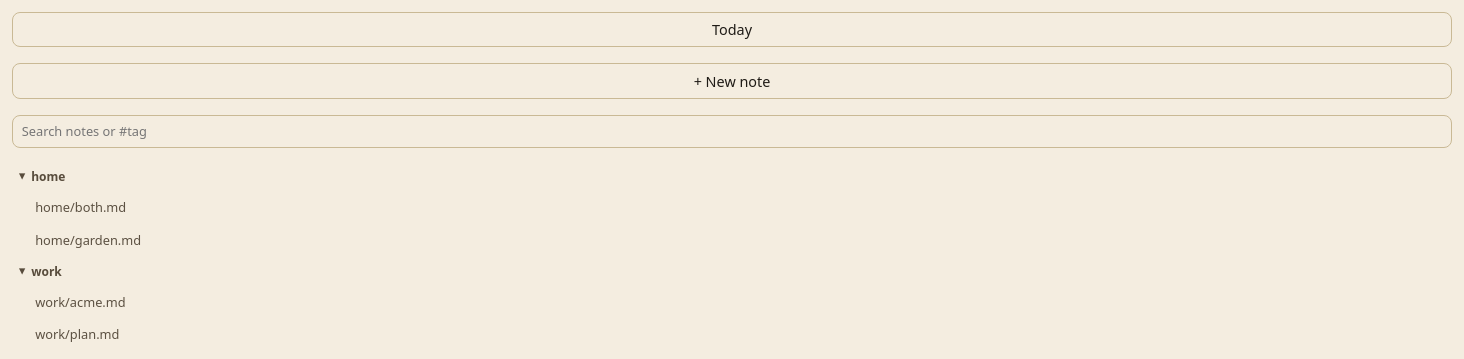
NoteBrowser tag search › picks with the arrow keys
Type "#wo" into the dropdown at (732, 131), box [19,120,1445,142]
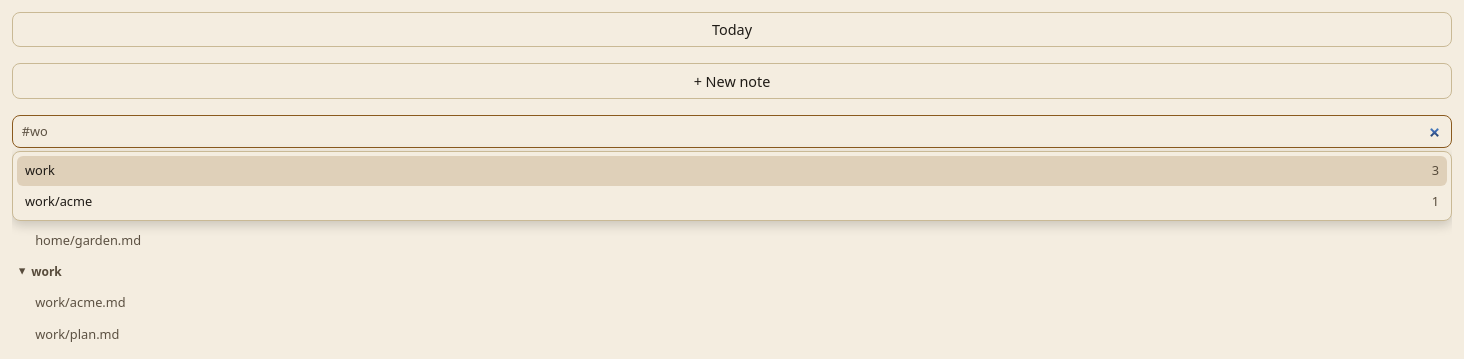
Press Arrowdown Enter
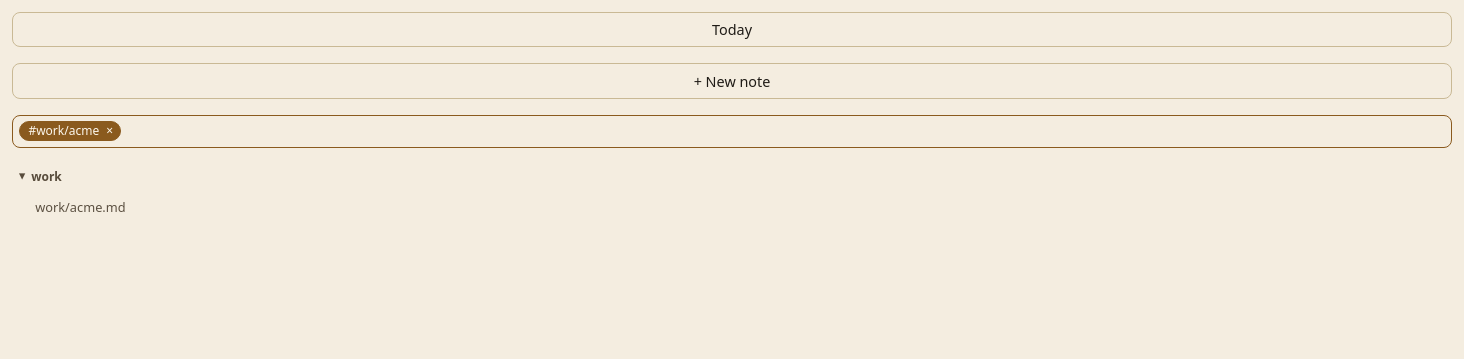
Expected: the button named "Remove tag work/acme" is shown, [99,122,120,140]
